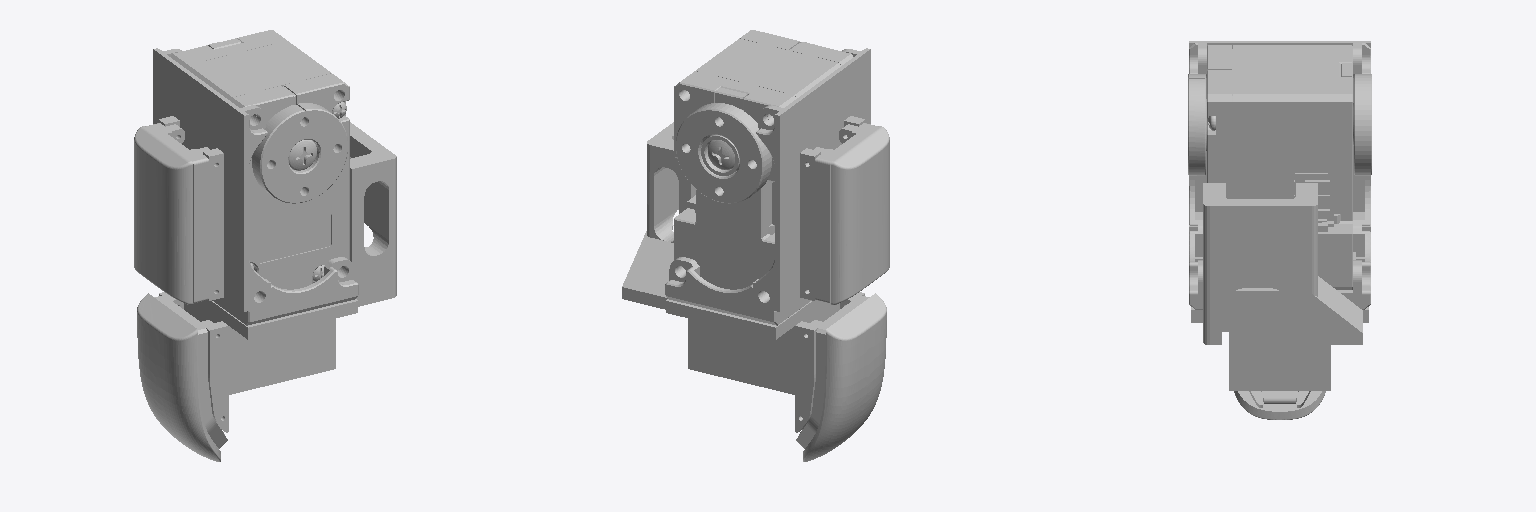
File: thumb_fingertip_paxini_convex.obj
3 views of the same model, side by side, from view 1: azimuth 30°, elevation 25°; view 2: azimuth 150°, elevation 25°; view 3: azimuth 270°, elevation 25° (orthographic).
Parts seen in each view (by area): view 1: thumb_for_urdf(1); view 2: thumb_for_urdf(1); view 3: thumb_for_urdf(1).
Part boxes in pixels (x1,y1,x2,y2): thumb_for_urdf(1): (134,30,396,461); thumb_for_urdf(1): (622,30,889,461); thumb_for_urdf(1): (1188,41,1371,419).
Bounding box in the file's own units: 0.0379 × 0.0649 × 0.029.